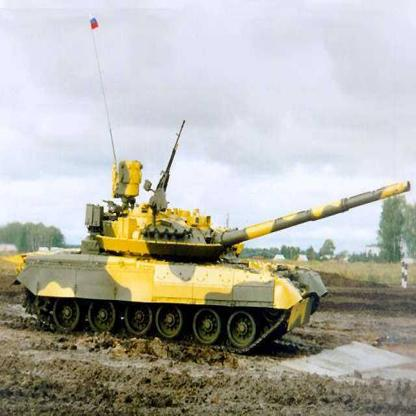Tank: (17, 127, 413, 355)
